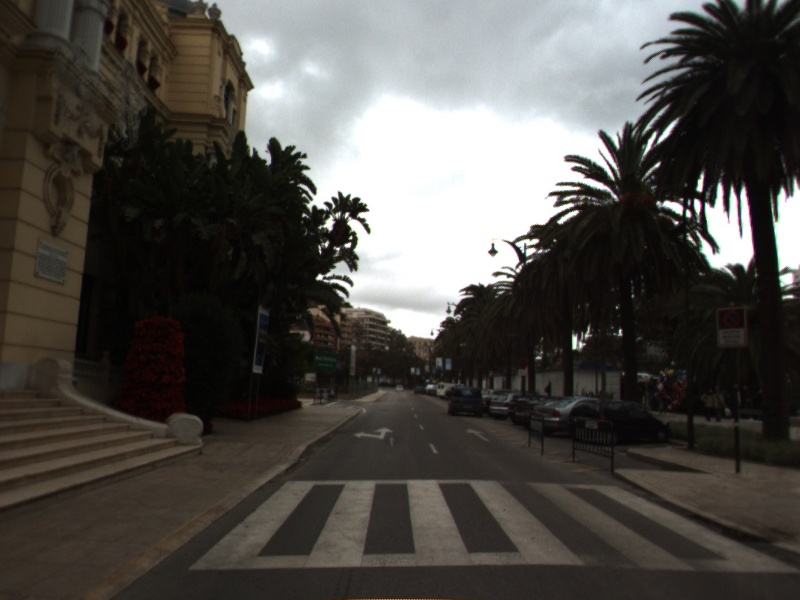STRAIGHT: (463, 426, 492, 443)
STRAIGHT_LEFT: (351, 425, 396, 441)
